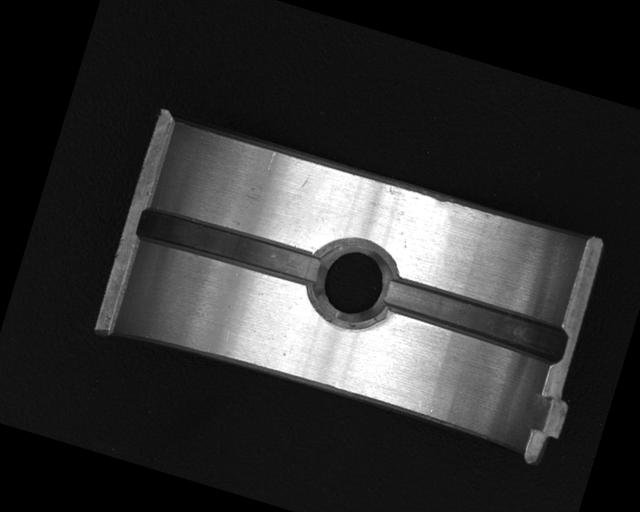gap: (132, 198, 331, 295), (378, 272, 571, 368)
hole: (301, 231, 403, 335)
nick: (264, 149, 278, 173)
